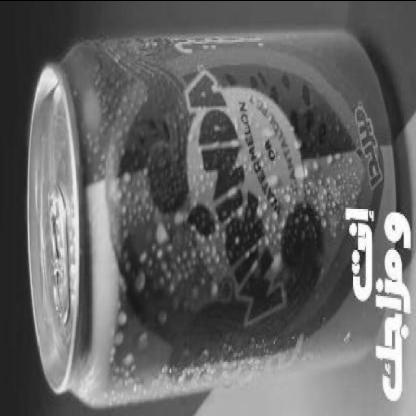alumunium_can: (28, 26, 403, 410)
